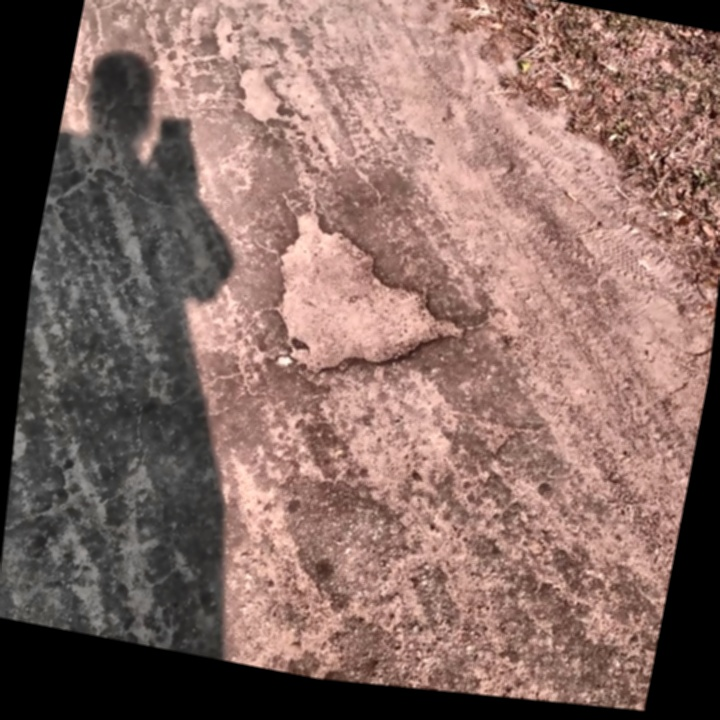pothole: (245, 182, 494, 406), (225, 57, 301, 130)
